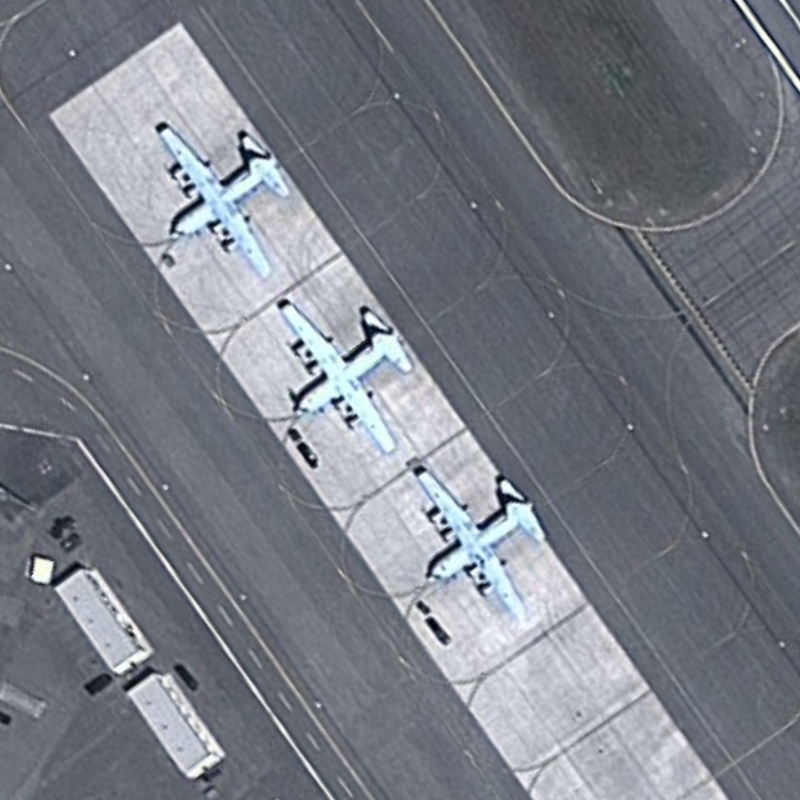A2: (396, 459, 557, 630), (259, 292, 417, 459), (152, 112, 299, 289)
